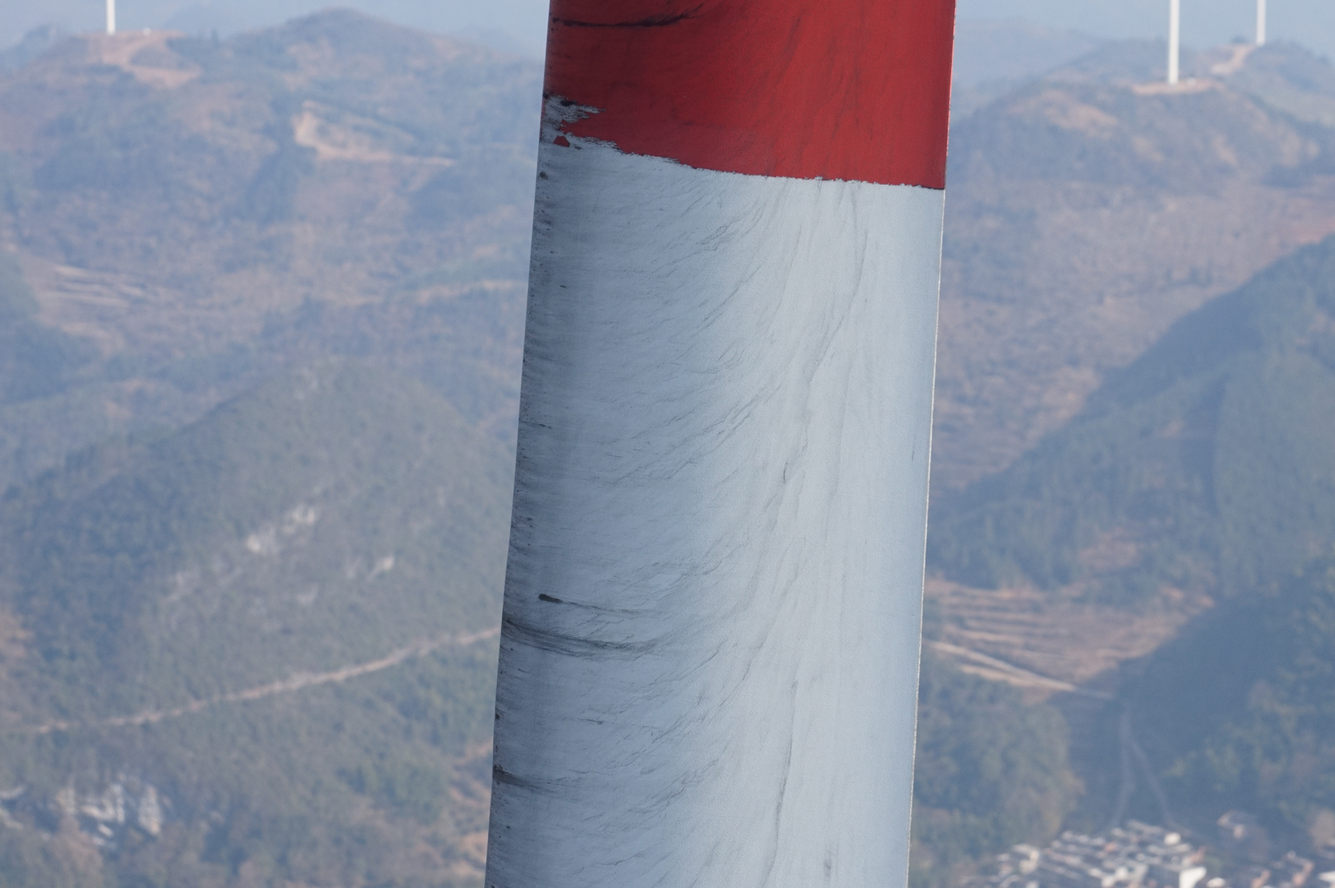Dirt: (551, 9, 701, 30)
